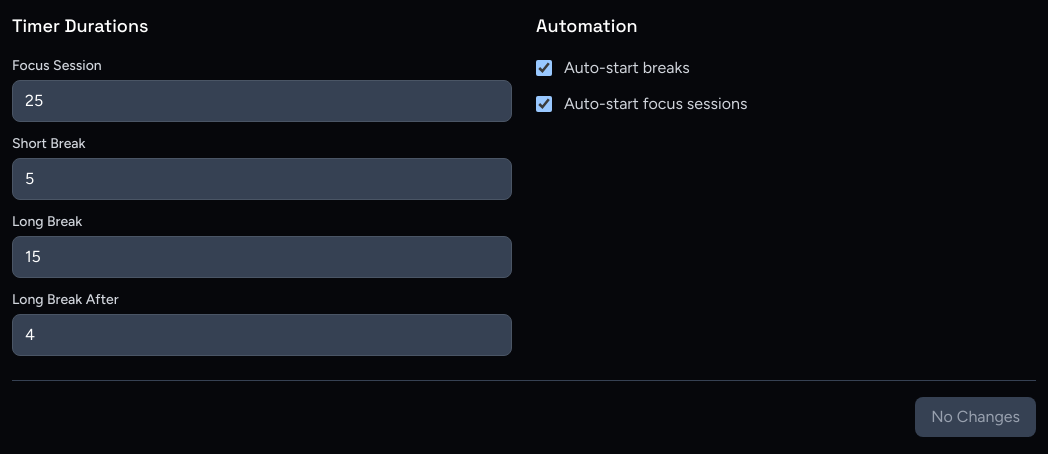
settings track unsaved edits and show the saved values in Strict Mode
This screenshot has width=1048, height=454.
Expected: the button "No Changes" is disabled, [915,397,1036,437]
Replace the text in the number field labelled "Focus Session" with "30" at (262, 101), box [12,80,512,122]
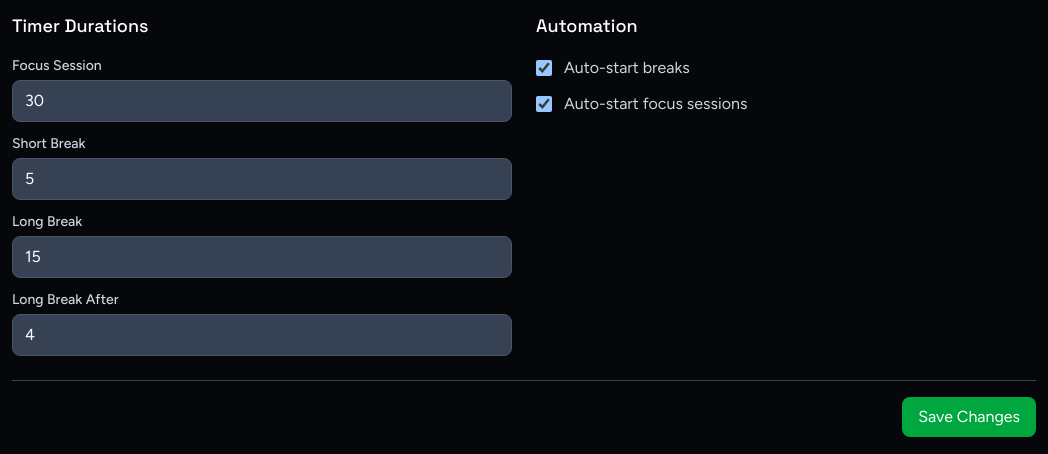
Click the button "Save Changes" at (969, 417), box [902,397,1036,437]
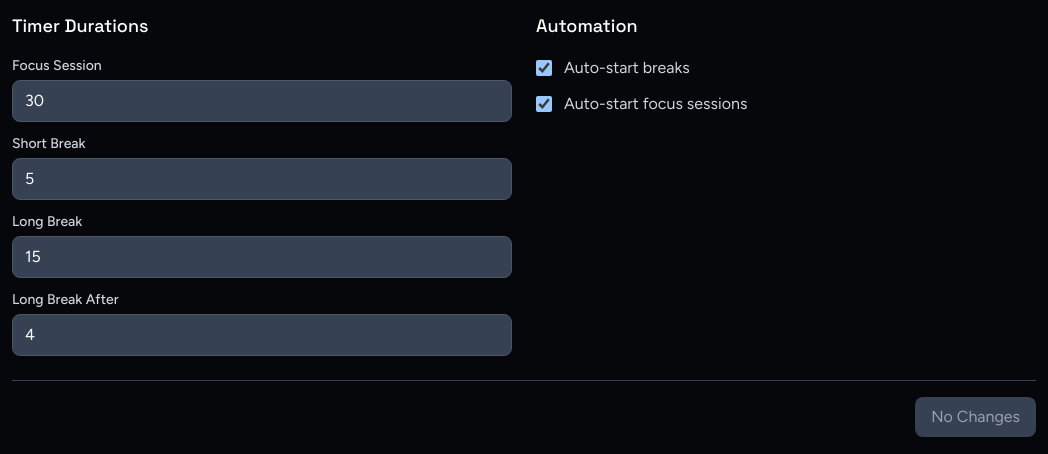
Expected: the button "No Changes" is disabled, [915,397,1036,437]
Replace the text in the number field labelled "Focus Session" with "20" at (262, 101), box [12,80,512,122]
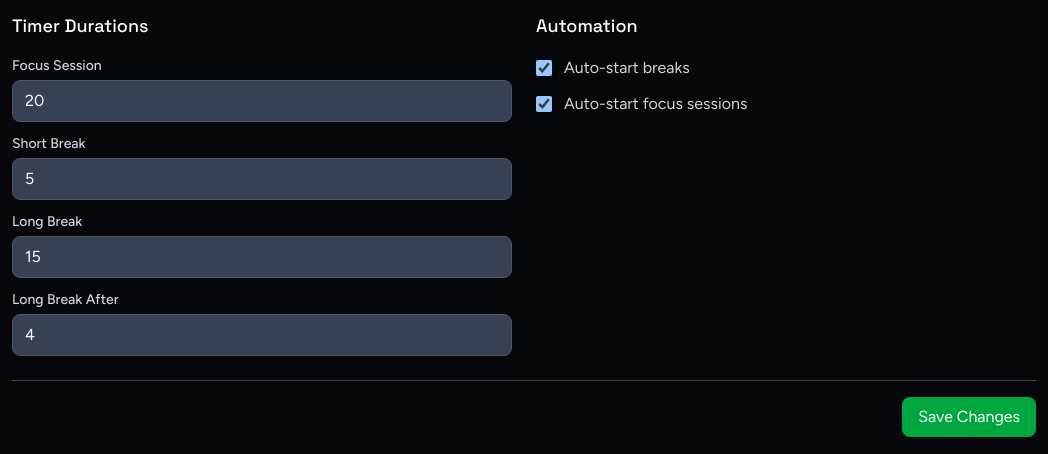
Replace the text in the number field labelled "Focus Session" with "30" at (262, 101), box [12,80,512,122]
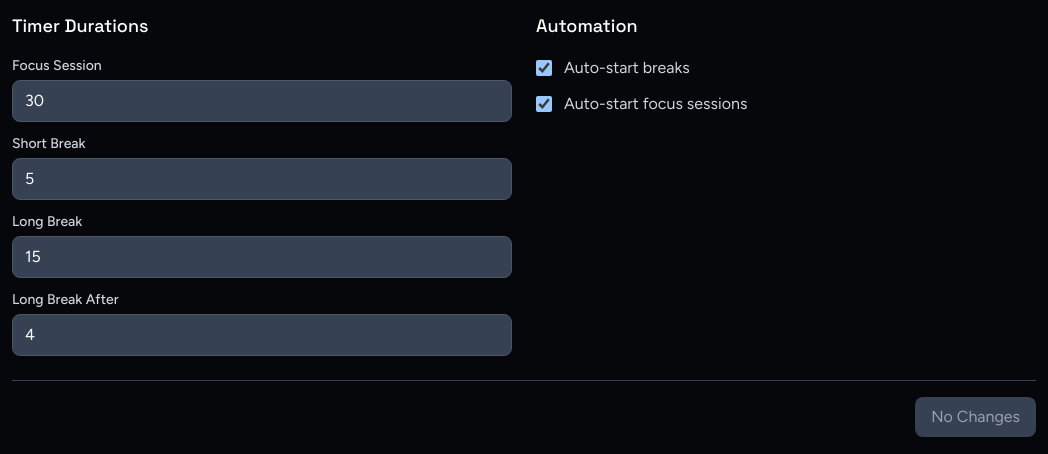
Expected: the button "No Changes" is disabled, [915,397,1036,437]
